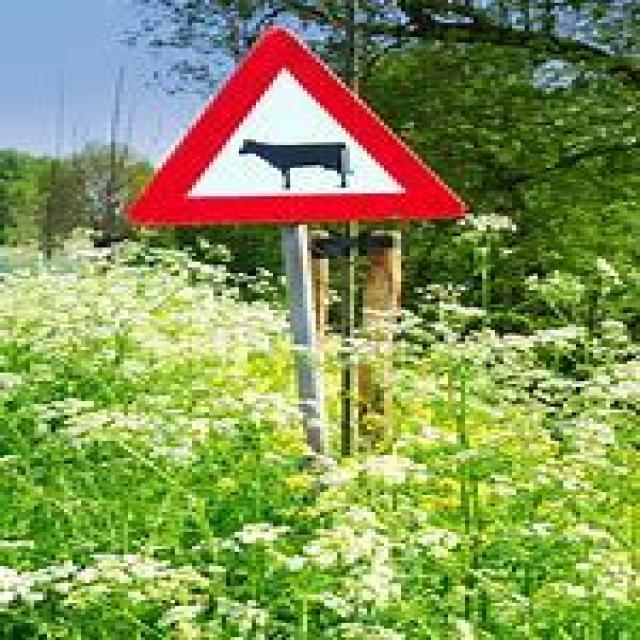CATTLE: (115, 20, 465, 236)
